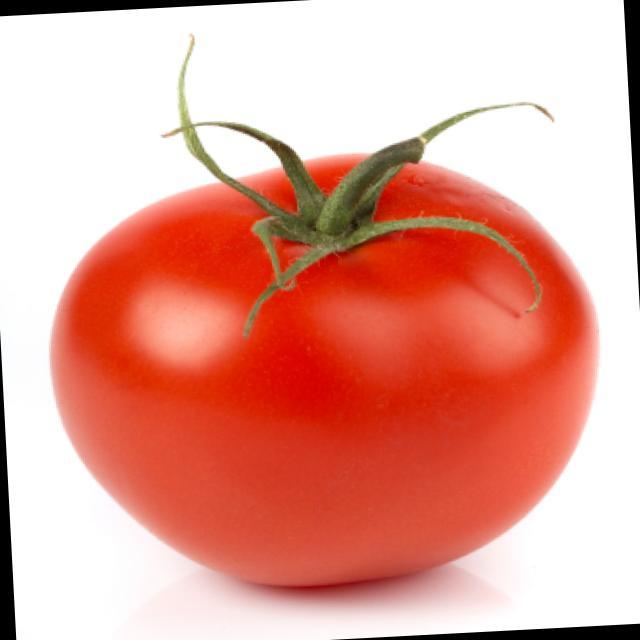Tomato: (2, 19, 624, 614)
